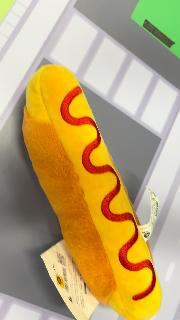hotdog: (21, 64, 162, 318)
